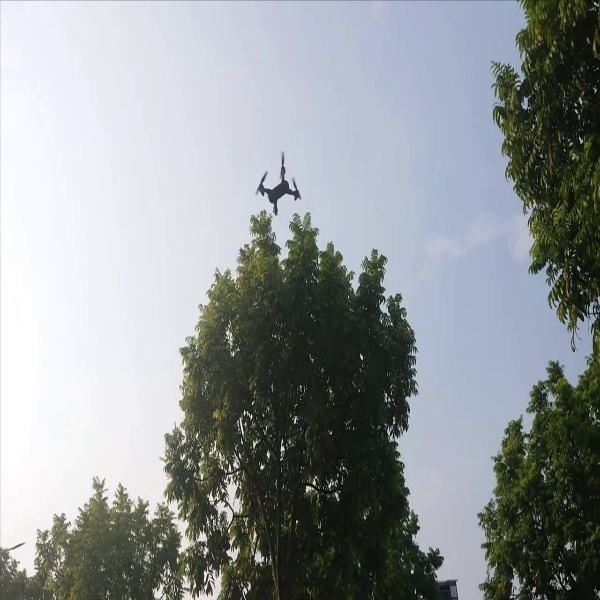drone: (251, 148, 308, 215)
